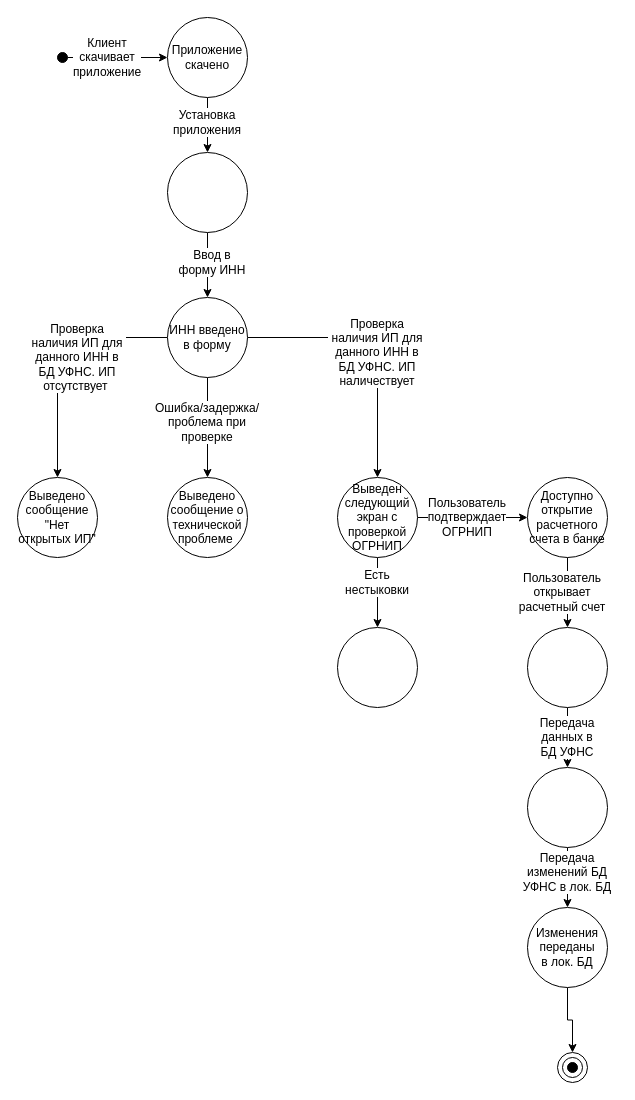
Image size: 635x1100. Some labels were removed from this diagram. Here are the shapes that lost their labels. From the top down, the box of each, then its label:
(166, 152, 248, 232): Приложение установлено
(336, 626, 418, 708): Пользователь может отправить отчет об ошибке
(526, 626, 608, 708): Расчетный счет создан в лок. БД
(526, 766, 608, 848): Данные переданы из лок. БД
